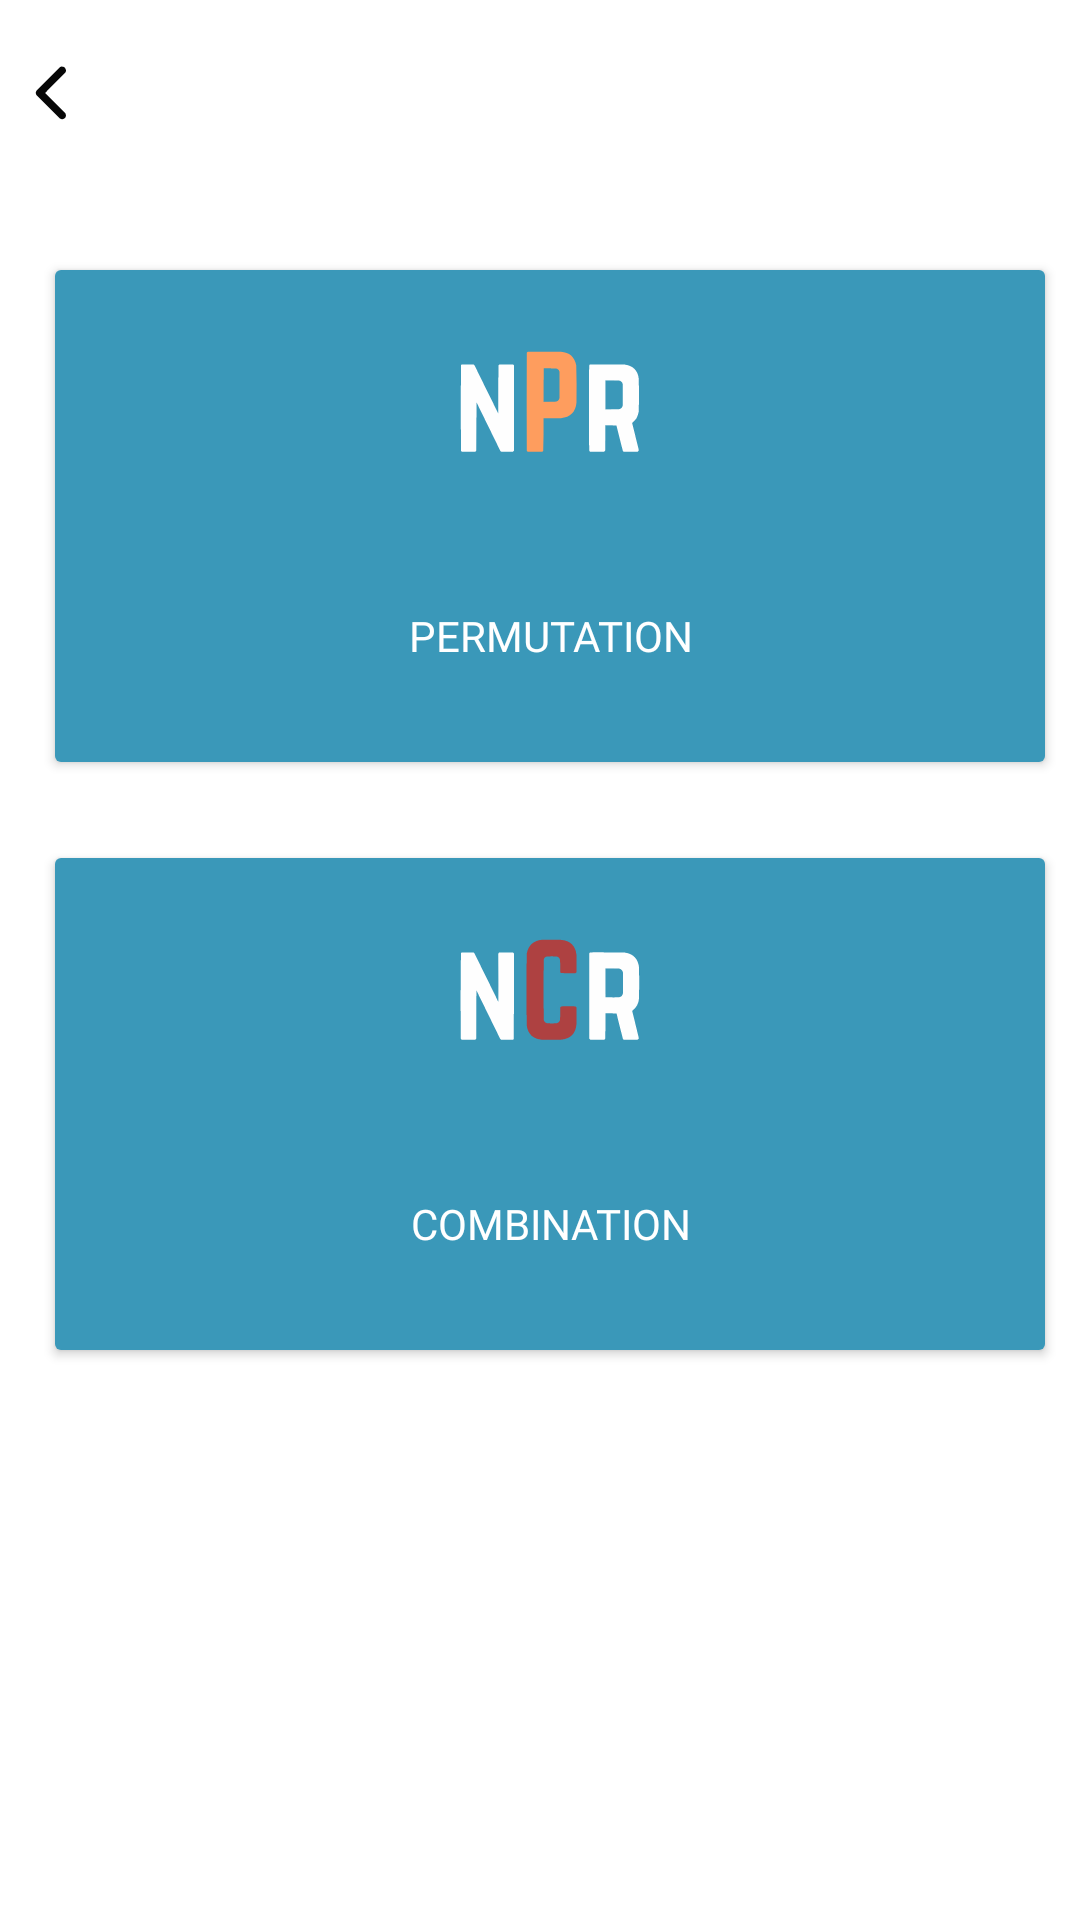

Icons on this 1080 x 1920 Android screen, each with the point to tap as [x,y]:
back: [50,93]
